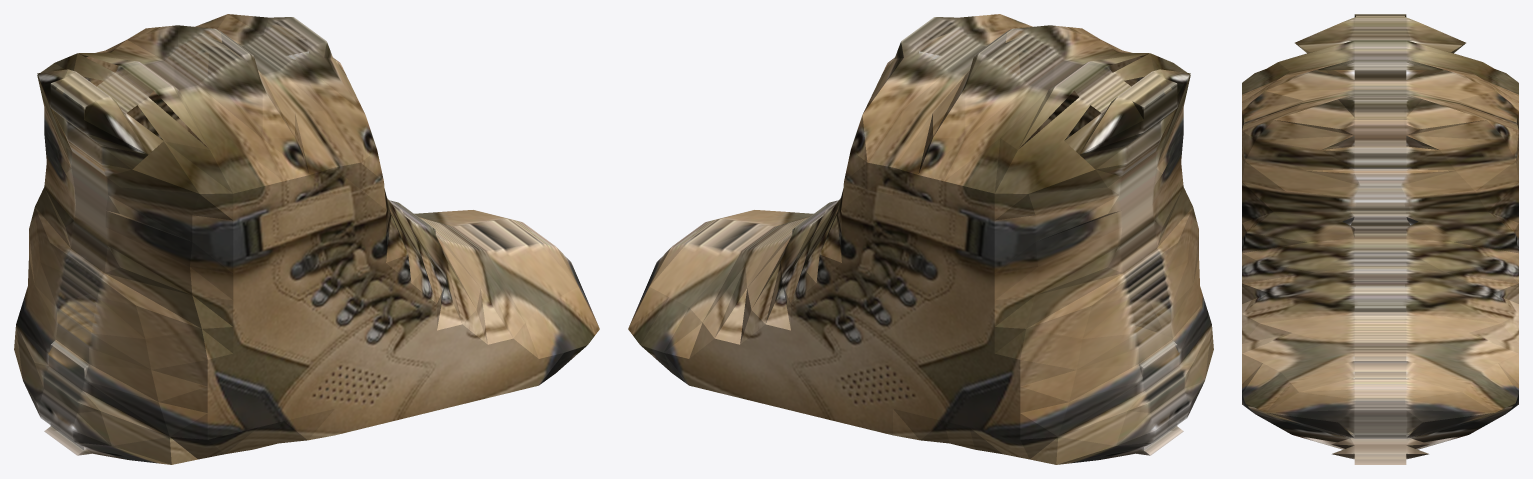
The model's file is agv-circuit-adventure-boot-131.glb.
3 views of the same model, side by side, from view 1: azimuth 30°, elevation 25°; view 2: azimuth 150°, elevation 25°; view 3: azimuth 270°, elevation 25° (orthographic). The views are drawn at different scales.
Visible parts, largest first — view 1: world; view 2: world; view 3: world.
Part boxes in pixels (x1,y1,x2,y2): world: (14,14,599,464); world: (628,14,1213,464); world: (1242,14,1518,464).
Size of the model in its own units: 1 by 0.7279 by 0.62.
Materials: 1 (1 with a texture image).
